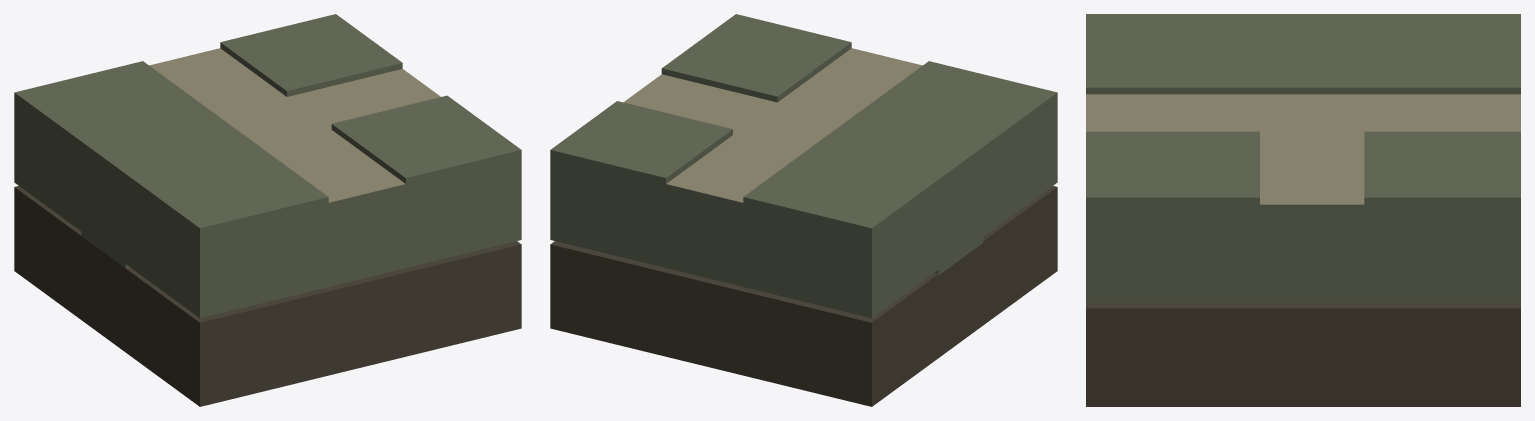
File: Grass block t junction.fbx
3 views of the same model, side by side, from view 1: azimuth 30°, elevation 25°; view 2: azimuth 150°, elevation 25°; view 3: azimuth 270°, elevation 25° (orthographic). The views are drawn at different scales.
Visible parts, largest first — view 1: polySurface1162; view 2: polySurface1162; view 3: polySurface1162.
Boxes of the visible parts, x1,y1,x2,y2 form: polySurface1162: (14,14,521,406); polySurface1162: (550,14,1057,406); polySurface1162: (1086,14,1520,406).
Bounding box in the file's own units: 56.98 × 30.24 × 56.97.
